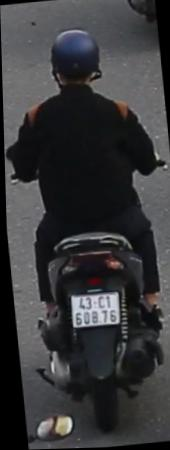LP: (64, 287, 124, 334)
helmet: (43, 26, 106, 98)
